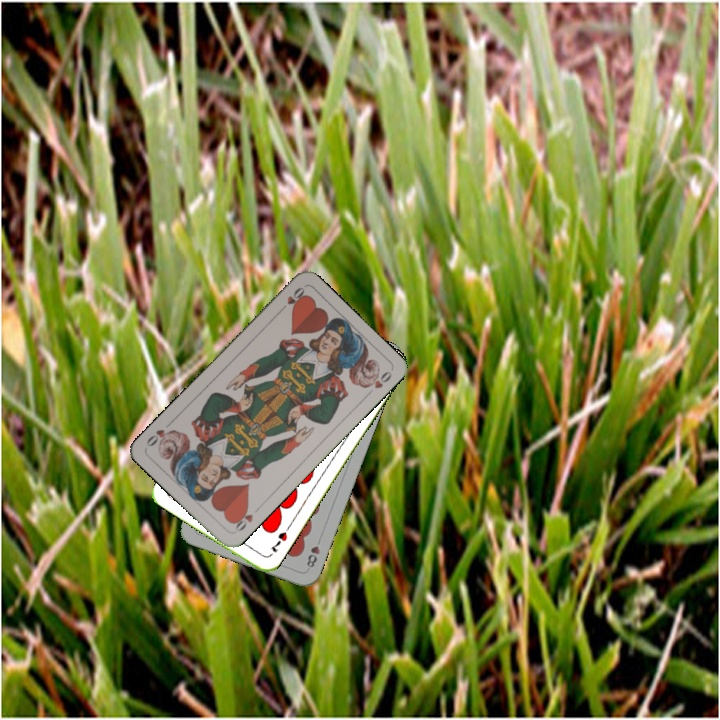H7: (267, 528, 290, 555)
H8: (303, 542, 322, 570)
HO: (275, 283, 307, 316), (228, 503, 256, 534)
